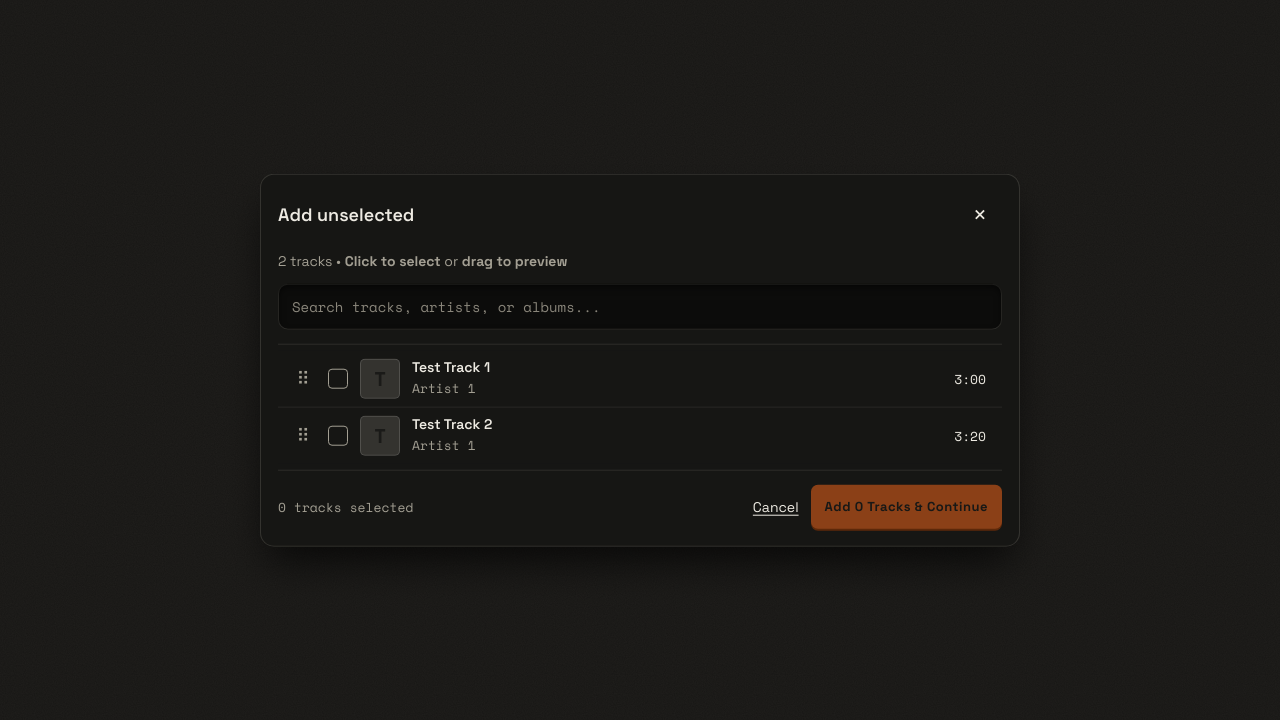
Test: AddUnselectedModal › updates selected tracks count in footer
Check: the element with test id "track-list" is shown, box [278,344,1002,469]
Check: the text "0 tracks selected" is shown, box [278,496,413,516]
# Select a track
Click the list item with test id "track-item-track1" at (380, 378), box [320,350,1002,406]
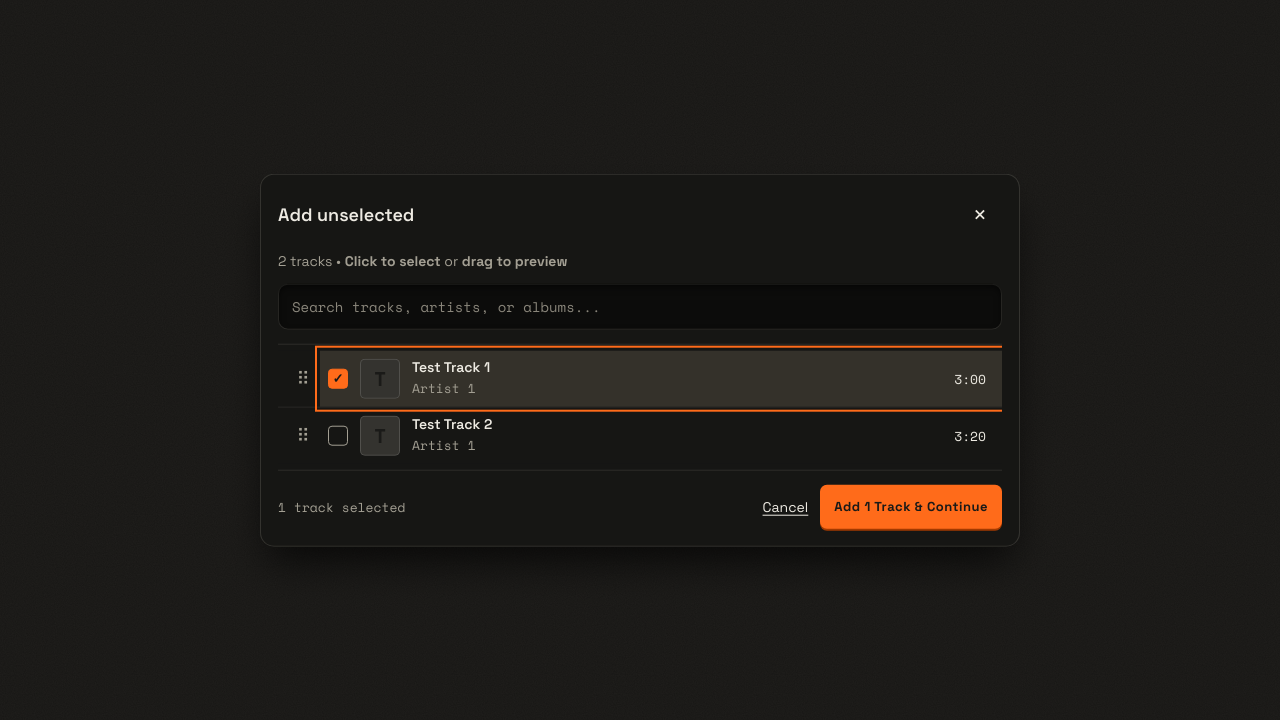
Check: the text "1 track selected" is shown, box [278,496,405,516]
